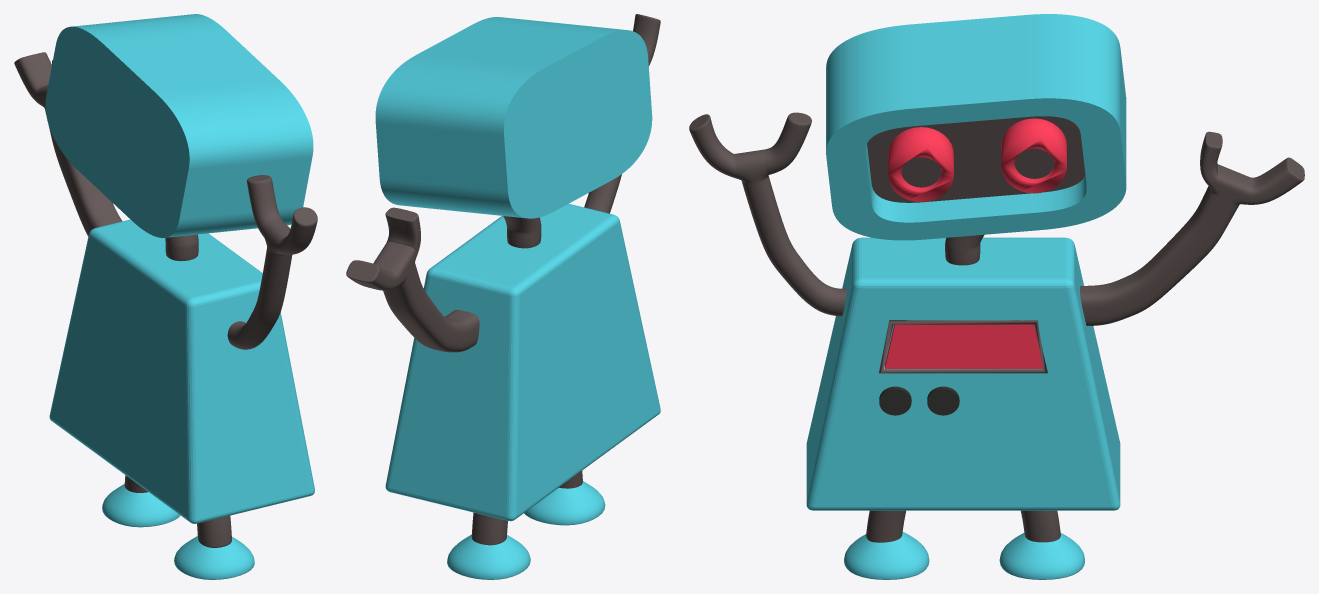
Rendered from robot.fbx.
3 renders of one model, left to right at view 1: azimuth 30°, elevation 25°; view 2: azimuth 150°, elevation 25°; view 3: azimuth 270°, elevation 25°, orthographic. The views are drawn at different scales.
Parts seen in each view (by area): view 1: Tijeo, Cube.006, Cube.001, Cube.005, Cube, Cube.004, Cube.002; view 2: Tijeo, Cube.006, Cube, Cube.005, Cube.001, Cube.004, Cube.002; view 3: Tijeo, Cube.006, Cube, Cube.001, Ekran, Cube.005, Cylinder.002, Cylinder.006, Cube.004, Okvir ekrana, Cube.002, Cylinder.007 (+3 smaller).
Boxes of the visible parts, box(x1,y1,x2,y2) form: Tijeo: box(49, 219, 314, 523); Cube.006: box(45, 14, 313, 237); Cube.001: box(227, 175, 317, 349); Cube.005: box(102, 484, 254, 579); Cube: box(14, 52, 121, 236); Cube.004: box(124, 475, 231, 547); Cube.002: box(165, 234, 198, 261); Tijeo: box(385, 203, 660, 521); Cube.006: box(375, 17, 652, 218); Cube: box(346, 207, 479, 352); Cube.005: box(447, 481, 605, 579); Cube.001: box(584, 14, 660, 213); Cube.004: box(471, 471, 582, 545); Cube.002: box(503, 216, 541, 248); Tijeo: box(806, 237, 1120, 510); Cube.006: box(826, 14, 1126, 240); Cube: box(1080, 131, 1304, 325); Cube.001: box(689, 112, 846, 316); Ekran: box(885, 324, 1042, 368); Cube.005: box(844, 532, 1084, 579); Cylinder.002: box(1001, 118, 1066, 193); Cylinder.006: box(888, 127, 953, 201); Cube.004: box(866, 510, 1060, 542); Okvir ekrana: box(879, 320, 1047, 373); Cube.002: box(945, 234, 984, 265); Cylinder.007: box(901, 157, 941, 187).
Bounding box in the file's own units: 183 × 597 × 635.
